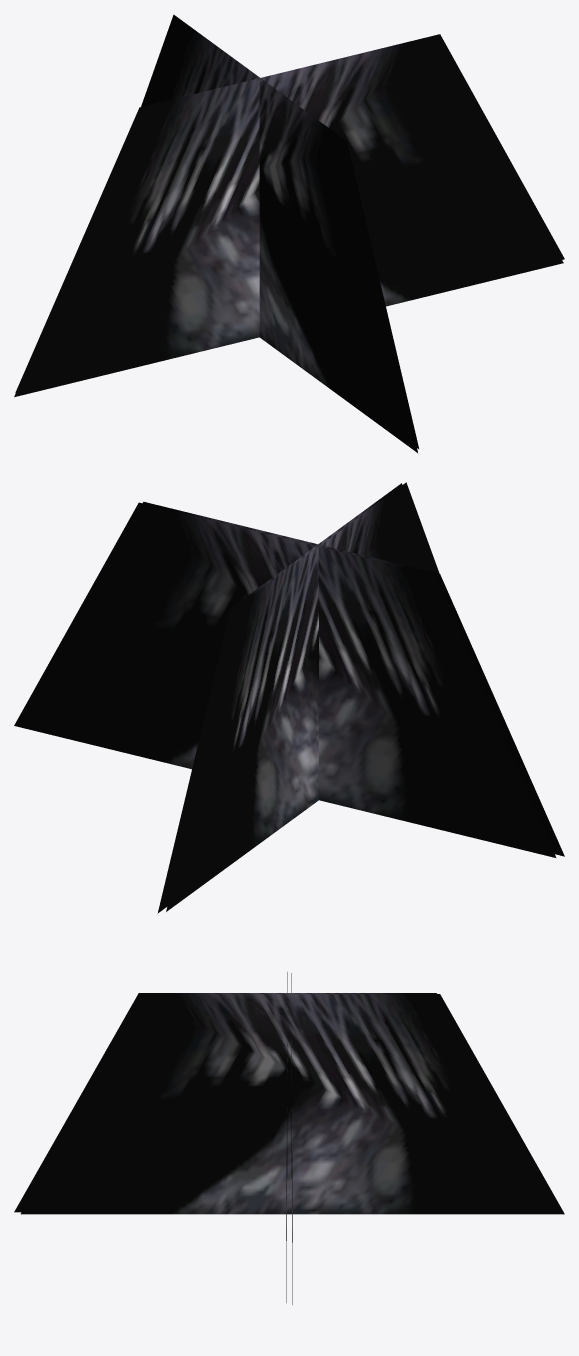
File: grenade_fungus_stump_l2.fbx
The picture shows the model from 3 angles, top to bottom: view 1: azimuth 30°, elevation 25°; view 2: azimuth 150°, elevation 25°; view 3: azimuth 270°, elevation 25°; orthographic projection. The views are drawn at different scales.
Parts seen in each view (by area): view 1: mesh_node; view 2: mesh_node; view 3: mesh_node.
Boxes of the visible parts, bbox=[...] form: mesh_node: bbox=[14, 14, 564, 452]; mesh_node: bbox=[14, 482, 564, 913]; mesh_node: bbox=[14, 972, 564, 1304].
Size of the model in its own units: 0.5672 by 0.2506 by 0.5689.
Materials: 1 (1 with a texture image).
